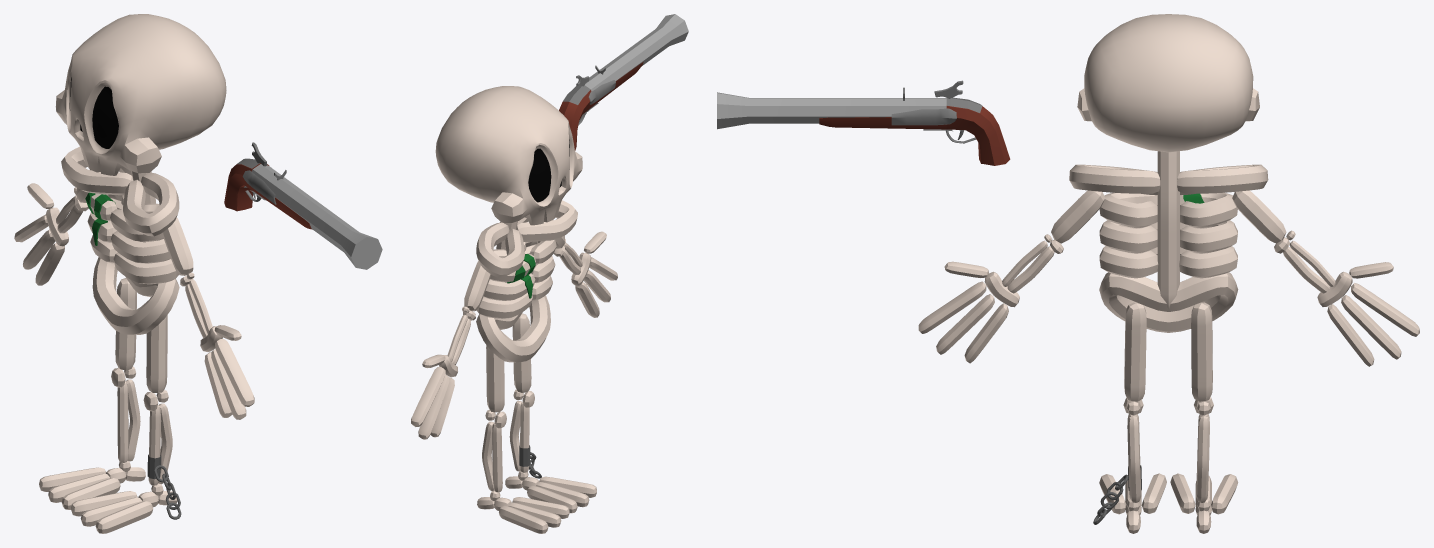
Rendered from CaveirinhaMEDIO1.fbx.
The picture shows the model from 3 angles, left to right: view 1: azimuth 30°, elevation 25°; view 2: azimuth 150°, elevation 25°; view 3: azimuth 270°, elevation 25°; orthographic projection. The views are drawn at different scales.
Visible parts, largest first — view 1: Plane.014, Cube; view 2: Plane.014, Cube; view 3: Plane.014, Cube.
Boxes of the visible parts, left/top/right/bottom form: Plane.014: left=14, top=14, right=254, bottom=533; Cube: left=224, top=142, right=382, bottom=269; Plane.014: left=411, top=86, right=617, bottom=533; Cube: left=559, top=14, right=688, bottom=150; Plane.014: left=918, top=14, right=1419, bottom=533; Cube: left=717, top=80, right=1010, bottom=165.
Bounding box in the file's own units: 483 × 125 × 386.
